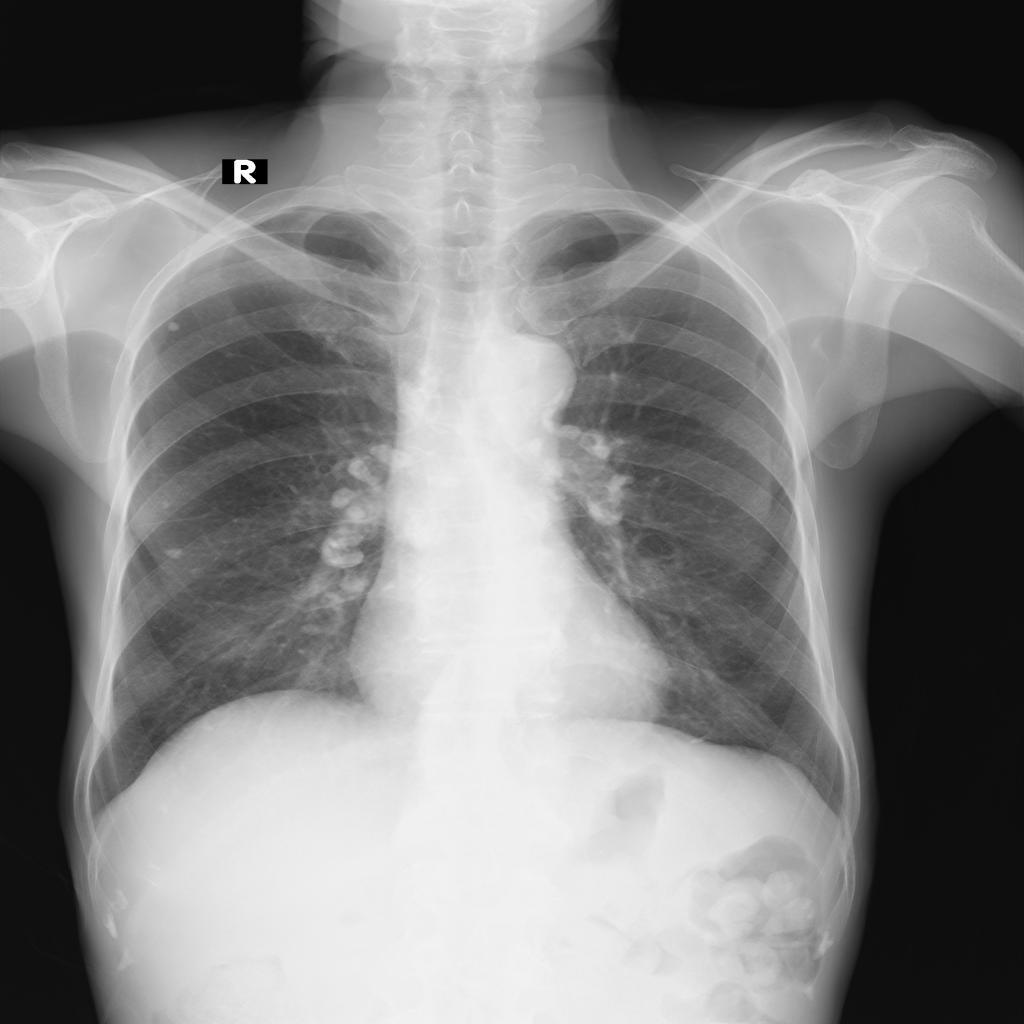Nodule: (164, 322, 184, 335), (166, 550, 184, 561)
